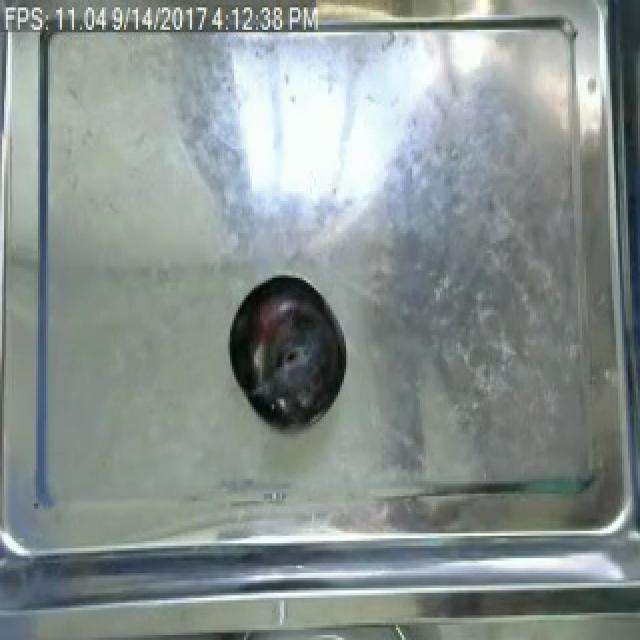Fruit: (224, 270, 348, 427)
